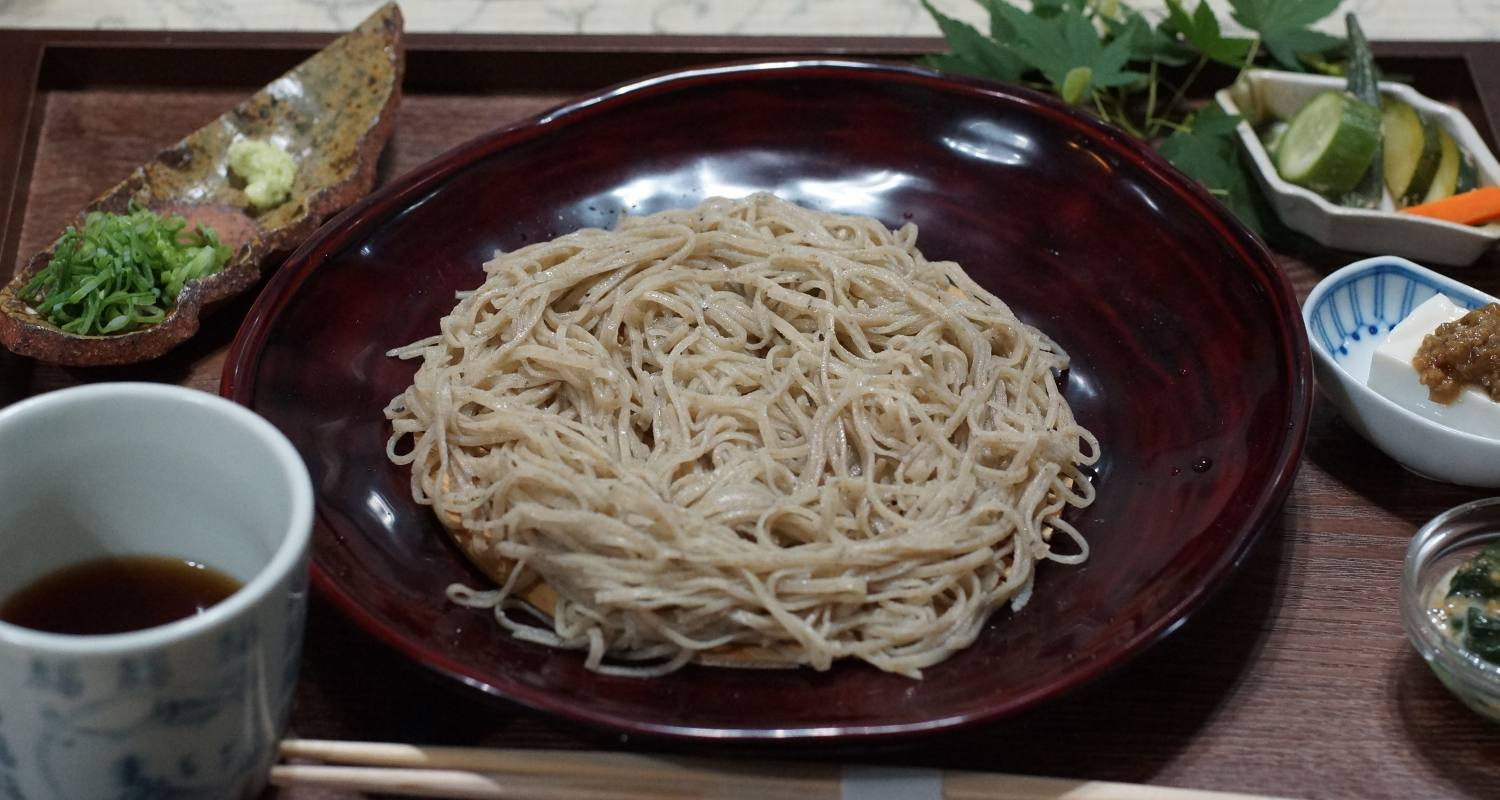Soba: (369, 198, 1114, 676)
